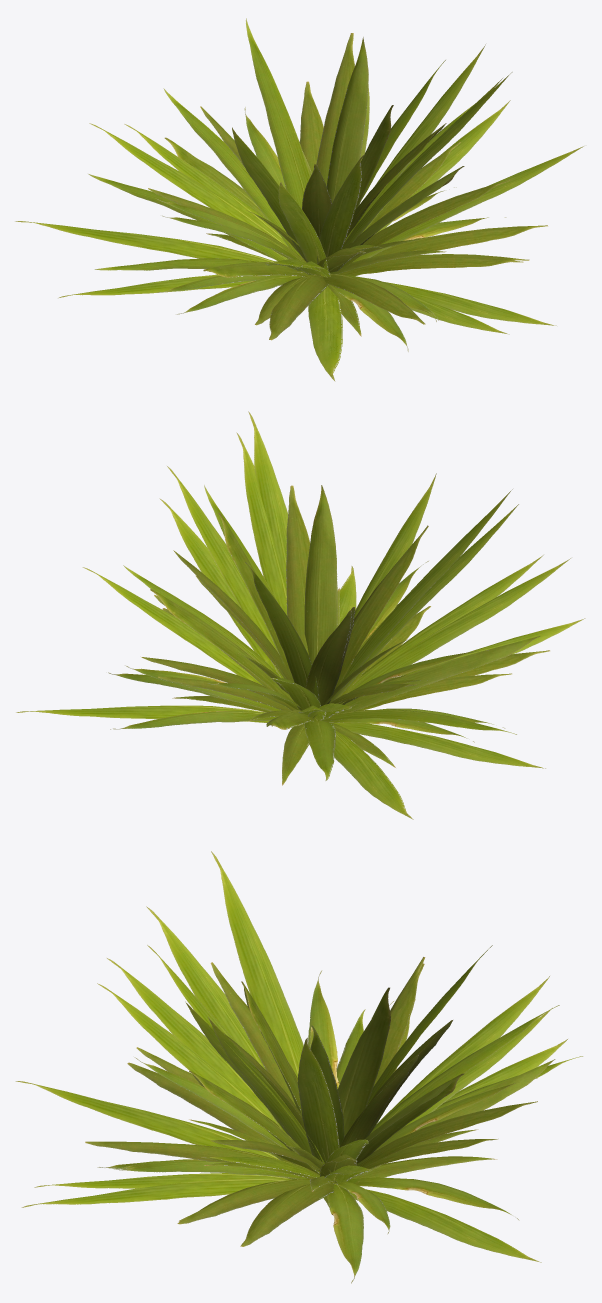
File: desert_plant1.fbx
The picture shows the model from 3 angles, top to bottom: view 1: azimuth 30°, elevation 25°; view 2: azimuth 150°, elevation 25°; view 3: azimuth 270°, elevation 25°; orthographic projection. The views are drawn at different scales.
Parts seen in each view (by area): view 1: Plane.074_Plane.083; view 2: Plane.074_Plane.083; view 3: Plane.074_Plane.083.
Part boxes in pixels (x1=…): Plane.074_Plane.083: x1=15, y1=18, x2=583, y2=381; Plane.074_Plane.083: x1=16, y1=411, x2=585, y2=819; Plane.074_Plane.083: x1=15, y1=851, x2=583, y2=1283.
Size of the model in its own units: 1465 by 696 by 1412.
